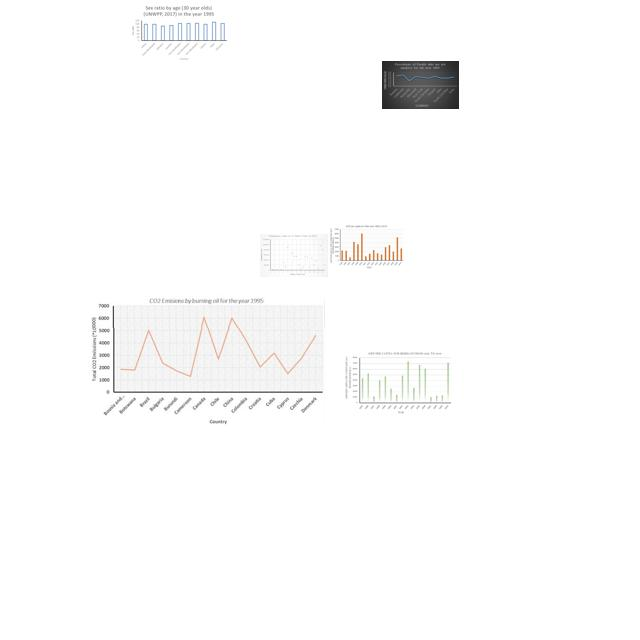Graph: (91, 295, 325, 425), (343, 351, 453, 415), (130, 4, 228, 61), (382, 61, 459, 109), (329, 224, 404, 269), (260, 234, 328, 277)
